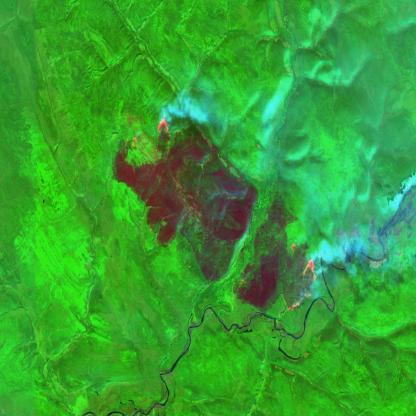fire: (284, 257, 320, 316), (153, 113, 173, 141)
